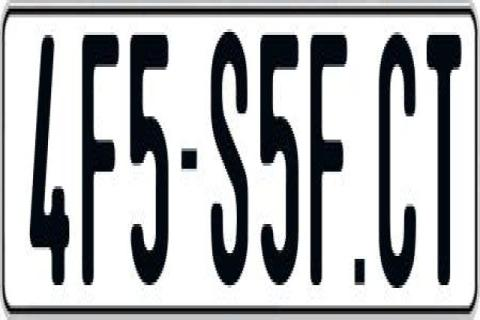0: (130, 29, 174, 288), (30, 32, 71, 282), (260, 29, 298, 291)
C: (378, 27, 418, 280)
F: (80, 32, 122, 296), (308, 32, 346, 300)
S: (210, 24, 247, 294)
T: (424, 32, 464, 296)
